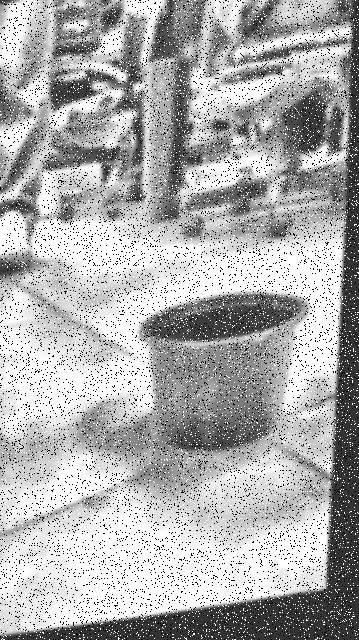pot: (138, 290, 307, 450)
